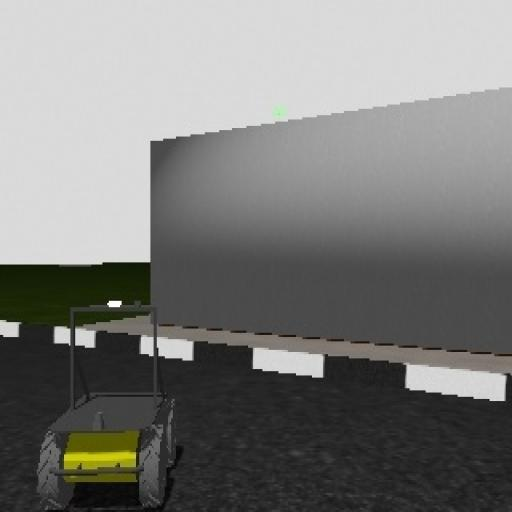huskya200: (35, 290, 184, 503)
